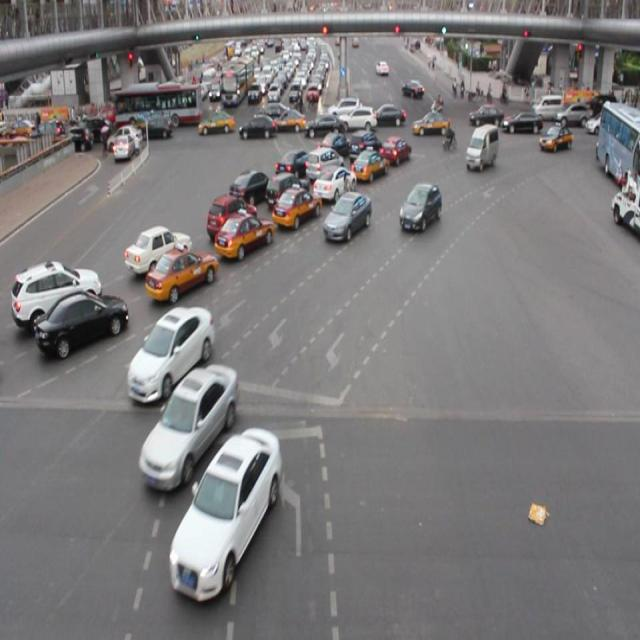car: (170, 427, 275, 596), (139, 365, 234, 486), (128, 306, 212, 402), (35, 291, 128, 354), (11, 260, 101, 324), (144, 244, 217, 299), (126, 225, 192, 273), (214, 209, 273, 259), (206, 193, 257, 240), (324, 191, 370, 243), (398, 183, 442, 234), (272, 184, 320, 230), (264, 170, 308, 210), (313, 164, 353, 205), (230, 170, 269, 206), (351, 146, 387, 182), (346, 129, 381, 165), (275, 149, 311, 182), (378, 134, 410, 168), (538, 119, 570, 150), (318, 130, 349, 159)
truck: (465, 124, 497, 170), (306, 147, 343, 182)
